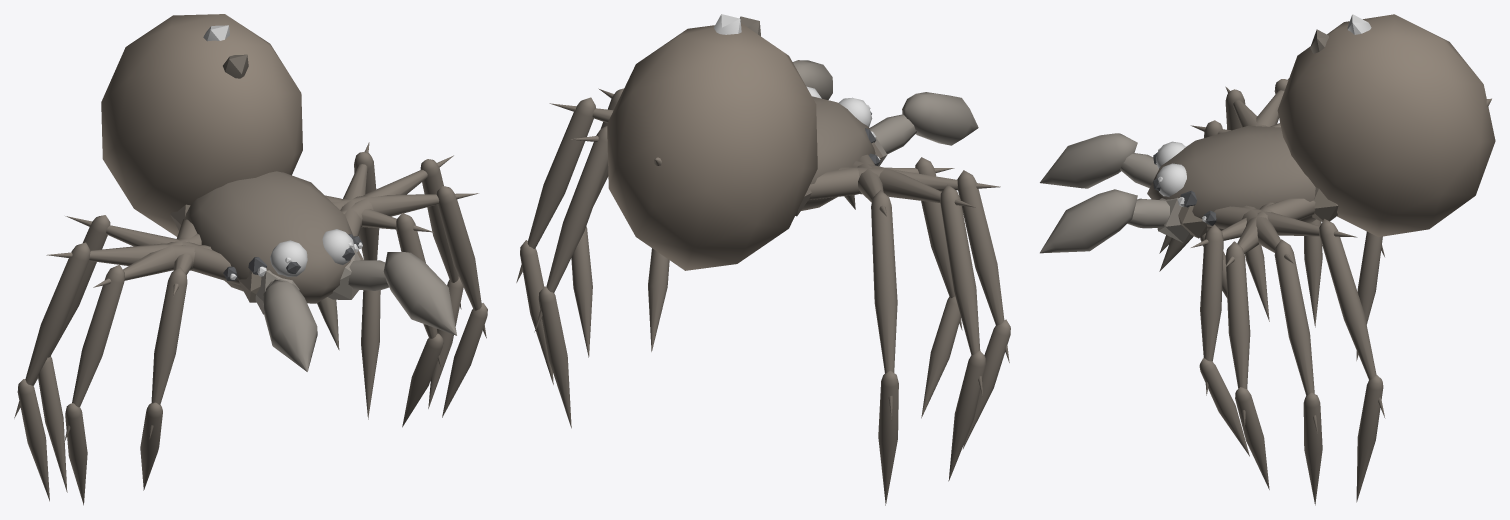
Rendered from cyrtophora-cylindroides.glb.
The picture shows the model from 3 angles, left to right: view 1: azimuth 30°, elevation 25°; view 2: azimuth 150°, elevation 25°; view 3: azimuth 270°, elevation 25°; orthographic projection. The views are drawn at different scales.
Visible parts, largest first — view 1: abdomen, cephalothorax, leg1-r0, leg2-l0, leg2-r0, leg0-r0, leg3-r0, leg0-l0, palp-l1, leg1-l0, palp-r1, leg3-l0 (+4 smaller); view 2: abdomen, leg1-r0, leg0-r0, leg0-l0, leg2-r0, leg1-l0, leg3-r0, cephalothorax, palp-r1, leg2-l0, leg3-l0, palp-r0 (+1 smaller); view 3: abdomen, cephalothorax, leg0-l0, leg1-l0, leg3-l0, leg2-l0, palp-l1, palp-r1, leg1-r0, leg2-r0, leg0-r0, palp-l0 (+3 smaller).
Part boxes in pixels (x1,y1,x2,y2): abdomen: (101,14,302,236); cephalothorax: (170,171,363,314); leg1-r0: (14,242,211,501); leg2-l0: (332,186,487,417); leg2-r0: (64,233,201,505); leg0-r0: (33,215,239,492); leg3-r0: (140,218,197,490); leg0-l0: (340,142,380,419); palp-l1: (383,252,456,335); leg1-l0: (340,155,463,408); palp-r1: (263,279,317,371); leg3-l0: (325,195,443,427); abdomen: (607,14,817,270); leg1-r0: (852,161,985,481); leg0-r0: (857,154,898,505); leg0-l0: (534,126,607,428); leg2-r0: (839,167,1010,448); leg1-l0: (516,97,613,384); leg3-r0: (808,157,962,418); cephalothorax: (795,96,887,216); palp-r1: (902,92,978,145); leg2-l0: (571,88,623,357); leg3-l0: (648,248,669,351); palp-r0: (869,114,916,154); abdomen: (1277,14,1495,237); cephalothorax: (1147,125,1338,242); leg0-l0: (1206,206,1385,502); leg1-l0: (1242,205,1322,505); leg3-l0: (1191,198,1315,456); leg2-l0: (1225,202,1274,489); palp-l1: (1040,189,1137,253); palp-r1: (1040,133,1137,188); leg1-r0: (1254,78,1322,327); leg2-r0: (1225,86,1269,321); leg0-r0: (1270,123,1384,360); palp-l0: (1127,198,1169,228).
Bounding box in the file's own units: 0.4528 × 0.4166 × 0.4154.
